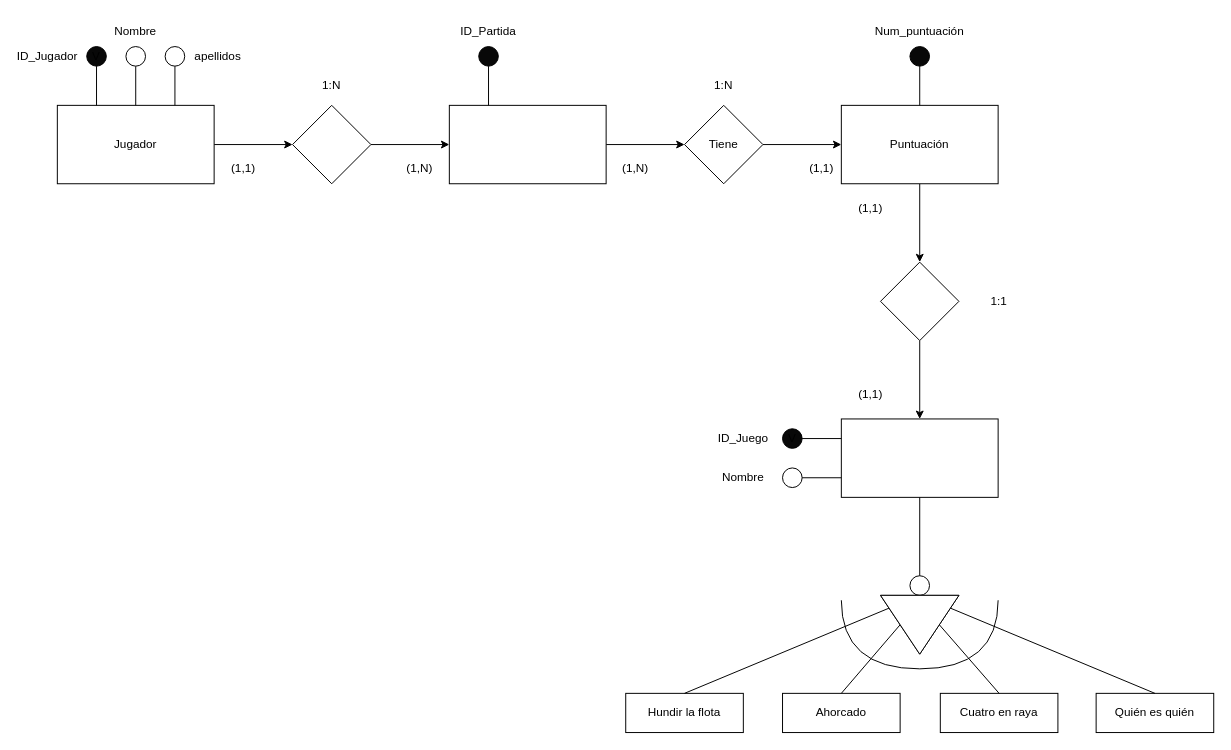
The diagram is 1231 pixels wide and 750 high, and some of its shapes have lost their labels. The centre of each missing label's shape, as x and y in pixels:
"Juega" belongs at point (331, 144).
"Juego" belongs at point (919, 457).
"Partida" belongs at point (527, 144).
"Sobre" belongs at point (919, 301).
